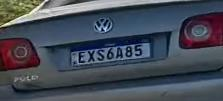Placa_mercosul_carro: (70, 37, 151, 67)
